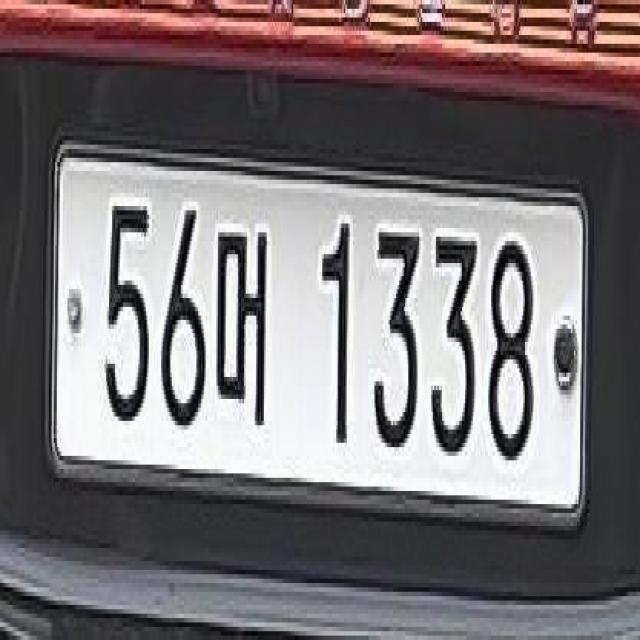illegal_plate: (53, 138, 598, 546)
